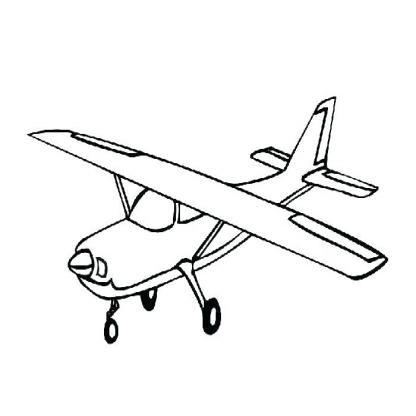CIV_Plane: (18, 96, 390, 356)
